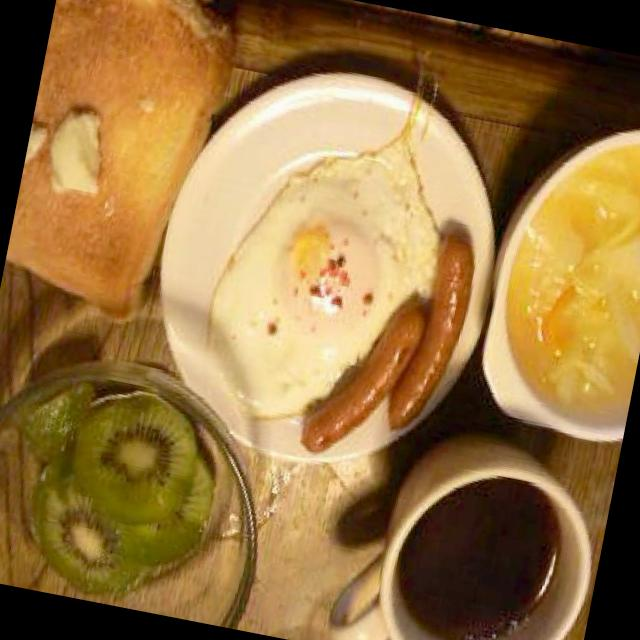Egg: (196, 122, 422, 414)
Kiwi: (1, 378, 234, 612)
Sausage: (300, 207, 483, 483)
